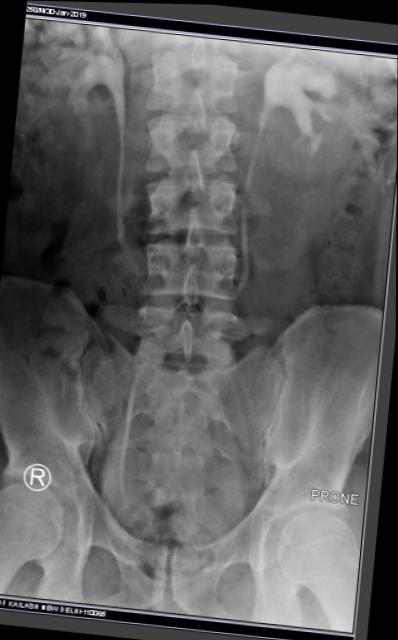vertebrae: (161, 18, 255, 85)
